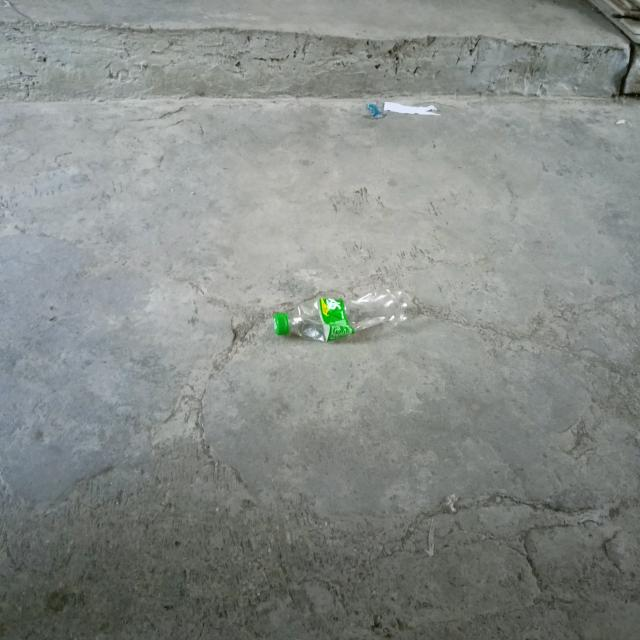Bottle: (274, 289, 411, 342)
